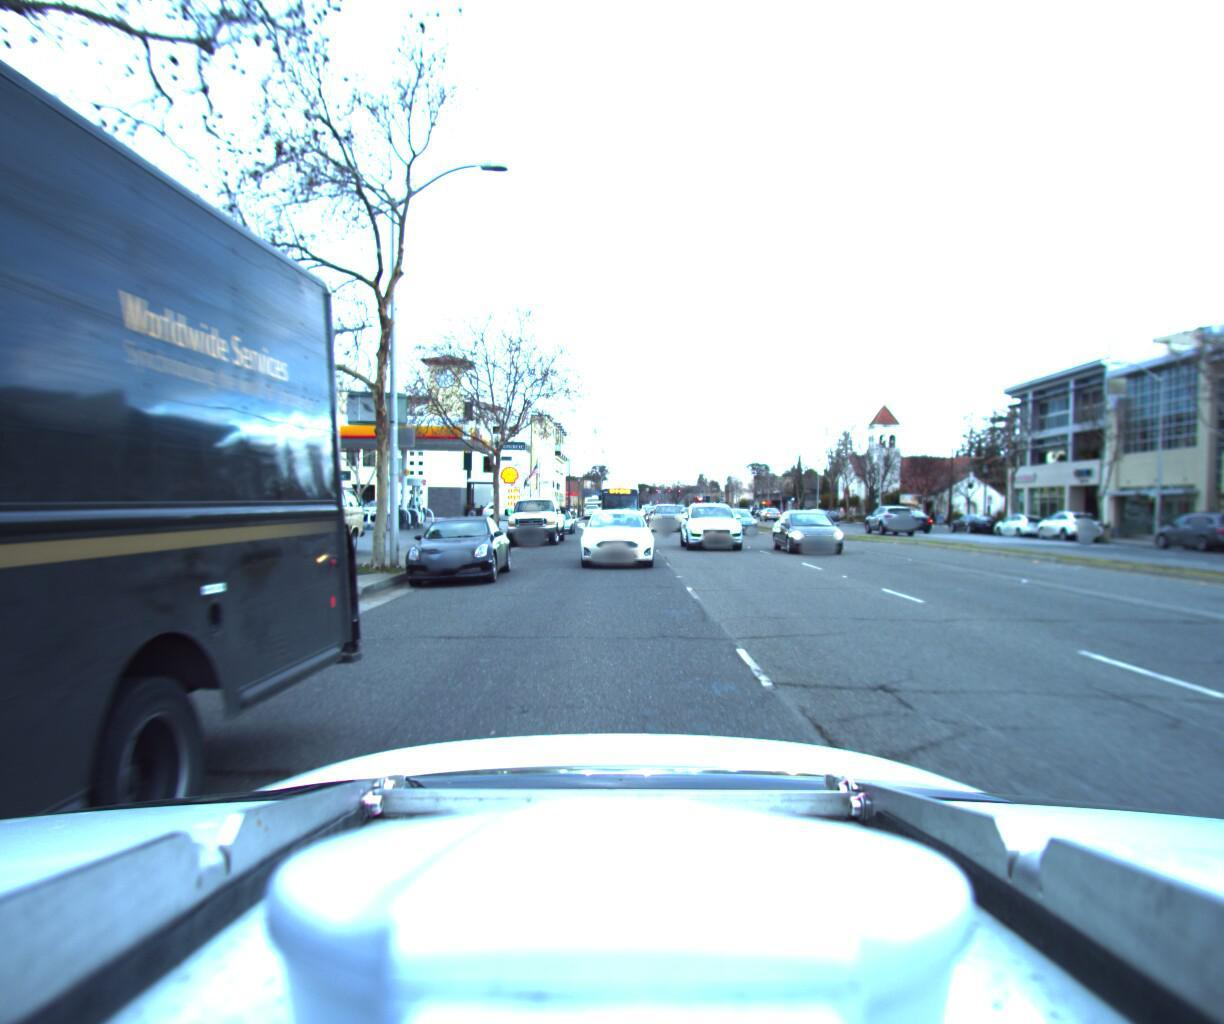bus: (591, 468, 637, 523)
car: (234, 469, 369, 556), (397, 507, 516, 590), (569, 499, 655, 566), (769, 502, 859, 554), (677, 495, 749, 554), (1142, 502, 1224, 549), (501, 488, 566, 540), (1028, 501, 1106, 536), (986, 504, 1051, 532), (855, 500, 909, 528), (718, 501, 761, 530), (878, 505, 929, 529), (944, 505, 997, 528), (649, 497, 685, 526), (541, 500, 574, 528), (756, 503, 778, 516)
